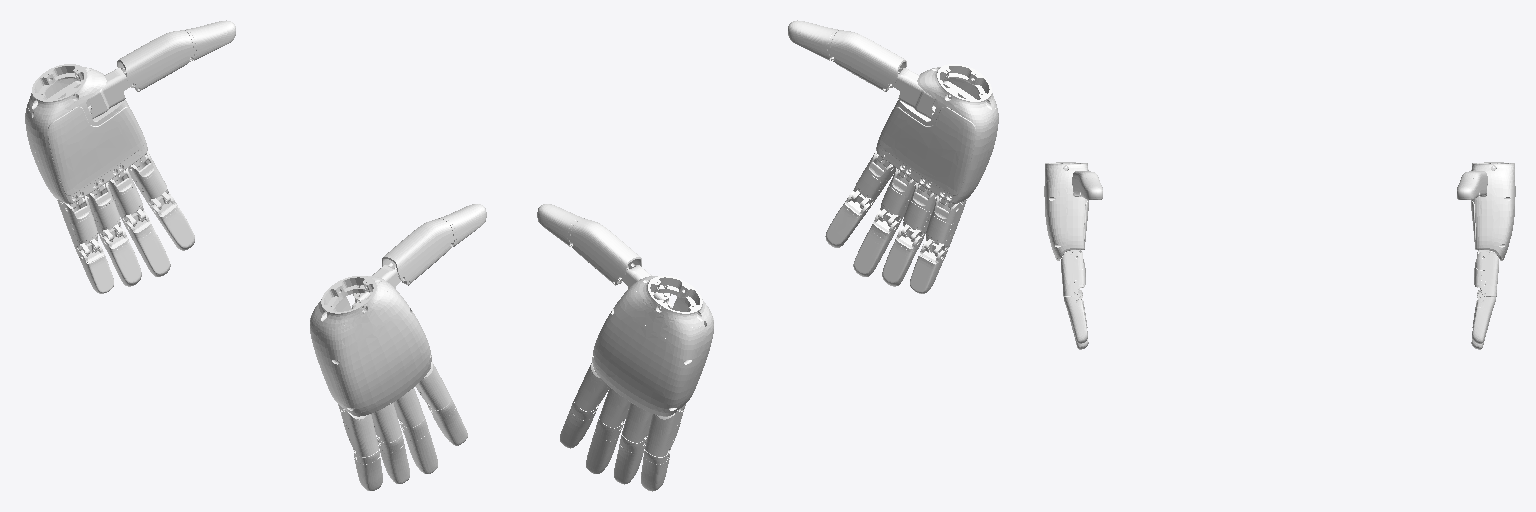
--- Render facts (derived) ---
The picture shows the robot from 3 angles, left to right: view 1: azimuth 30°, elevation 25°; view 2: azimuth 150°, elevation 25°; view 3: azimuth 270°, elevation 25°; orthographic projection.
Model GR2T2v2_fourier_hand_12dof with 71 links and 70 joints (53 revolute, 17 fixed), rooted at base_link, posed every joint at zero.
Visible links, largest first — view 1: R_hand_base_link, L_hand_base_link, L_thumb_proximal_pitch_link, R_thumb_proximal_pitch_link, L_middle_intermediate_link, L_ring_intermediate_link, L_index_intermediate_link, L_pinky_intermediate_link, L_thumb_distal_link, L_pinky_proximal_link, R_pinky_proximal_link, R_middle_intermediate_link (+11 smaller); view 2: L_hand_base_link, R_hand_base_link, R_thumb_proximal_pitch_link, L_thumb_proximal_pitch_link, R_middle_intermediate_link, R_ring_intermediate_link, R_index_intermediate_link, R_pinky_intermediate_link, R_thumb_distal_link, R_pinky_proximal_link, L_pinky_proximal_link, L_middle_intermediate_link (+11 smaller); view 3: L_hand_base_link, R_hand_base_link, R_index_proximal_link, L_index_proximal_link, R_index_intermediate_link, L_index_intermediate_link.
Link boxes in pixels (x1=…): R_hand_base_link: x1=310, y1=276, x2=431, y2=415; L_hand_base_link: x1=25, y1=64, x2=147, y2=208; L_thumb_proximal_pitch_link: x1=117, y1=30, x2=194, y2=91; R_thumb_proximal_pitch_link: x1=382, y1=219, x2=454, y2=285; L_middle_intermediate_link: x1=122, y1=209, x2=170, y2=276; L_ring_intermediate_link: x1=99, y1=224, x2=141, y2=286; L_index_intermediate_link: x1=148, y1=192, x2=194, y2=250; L_pinky_intermediate_link: x1=75, y1=239, x2=113, y2=293; L_thumb_distal_link: x1=185, y1=20, x2=235, y2=60; L_pinky_proximal_link: x1=57, y1=196, x2=97, y2=250; R_pinky_proximal_link: x1=338, y1=404, x2=378, y2=456; R_middle_intermediate_link: x1=400, y1=419, x2=437, y2=473; L_hand_base_link: x1=592, y1=276, x2=713, y2=415; R_hand_base_link: x1=876, y1=64, x2=998, y2=208; R_thumb_proximal_pitch_link: x1=829, y1=30, x2=906, y2=91; L_thumb_proximal_pitch_link: x1=569, y1=219, x2=641, y2=285; R_middle_intermediate_link: x1=853, y1=209, x2=901, y2=276; R_ring_intermediate_link: x1=882, y1=224, x2=924, y2=286; R_index_intermediate_link: x1=825, y1=190, x2=872, y2=247; R_pinky_intermediate_link: x1=910, y1=239, x2=948, y2=293; R_thumb_distal_link: x1=788, y1=20, x2=838, y2=60; R_pinky_proximal_link: x1=926, y1=196, x2=966, y2=250; L_pinky_proximal_link: x1=645, y1=404, x2=685, y2=456; L_middle_intermediate_link: x1=586, y1=419, x2=623, y2=473; L_hand_base_link: x1=1471, y1=162, x2=1515, y2=260; R_hand_base_link: x1=1044, y1=162, x2=1088, y2=260; R_index_proximal_link: x1=1061, y1=252, x2=1085, y2=296; L_index_proximal_link: x1=1474, y1=252, x2=1498, y2=296; R_index_intermediate_link: x1=1064, y1=293, x2=1087, y2=343; L_index_intermediate_link: x1=1472, y1=293, x2=1495, y2=343.
Size in the robot's own frame: 0.1704 by 0.5066 by 0.2191 metres.
26 mesh visuals loaded from 57 distinct referenced files (26 binary STL); not drawn: 13 (reference not matched to a file when rendering), 18 (file found but could not be loaded).

robot.urdf — GR2T2v2_fourier_hand_12dof:
<?xml version="1.0" encoding="utf-8"?>

<!-- 02282025-alpha-1 -->

<robot
  name="GR2T2v2_fourier_hand_12dof">
  <link
    name="base_link">
    <inertial>
      <origin
        xyz="-0.0030357 6.968E-05 -0.087284"
        rpy="0 0 0" />
      <mass
        value="6.6598" />
      <inertia
        ixx="0.048356"
        ixy="-1.314E-05"
        ixz="0.00041517"
        iyy="0.030781"
        iyz="-3.242E-05"
        izz="0.041191" />
    </inertial>
    <visual>
      <origin
        xyz="0 0 0"
        rpy="0 0 0" />
      <geometry>
        <mesh
          filename="../meshes/gr2t2v2/base_link.STL" />
      </geometry>
      <material
        name="">
        <color
          rgba="1 1 1 1" />
      </material>
    </visual>
    <collision>
      <origin
        xyz="0 0.125 0.01"
        rpy="0 0 0" />
      <geometry>
        <box size="0.18 0.06 0.02" />
      </geometry>
    </collision>
    <collision>
      <origin
        xyz="0 -0.125 0.01"
        rpy="0 0 0" />
      <geometry>
        <box size="0.18 0.06 0.02" />
      </geometry>
    </collision>
    <collision>
      <origin
        xyz="-0.03 0 -0.08"
        rpy="1.57 0 0" />
      <geometry>
        <cylinder radius="0.1" length="0.17" />
      </geometry>
    </collision>
  </link>
  <link
    name="waist_yaw_link">
    <inertial>
      <origin
        xyz="-2.017E-05 8.88E-05 0.024104"
        rpy="0 0 0" />
      <mass
        value="0.67252" />
      <inertia
        ixx="0.0010622"
        ixy="9E-08"
        ixz="-4.3E-07"
        iyy="0.0010624"
        iyz="3.7E-07"
        izz="0.00059099" />
    </inertial>
    <visual>
      <origin
        xyz="0 0 0"
        rpy="0 0 0" />
      <geometry>
        <mesh
          filename="../meshes/gr2t2v2/waist_yaw_link.STL" />
      </geometry>
      <material
        name="">
        <color
          rgba="1 1 1 1" />
      </material>
    </visual>
    <!-- <collision>
      <origin
        xyz="0 0 0"
        rpy="0 0 0" />
      <geometry>
        <mesh
          filename="../meshes/gr2t2v2/waist_yaw_link.STL" />
      </geometry>
    </collision> -->
  </link>
  <joint
    name="waist_yaw_joint"
    type="revolute">
    <origin
      xyz="0 0 -0.0159"
      rpy="0 0 0" />
    <parent
      link="base_link" />
    <child
      link="waist_yaw_link" />
    <axis
      xyz="0 0 1" />
    <limit
      lower="-2.618"
      upper="2.618"
      effort="74.45"
      velocity="7.7568" />
  </joint>
  <link
    name="torso_link">
    <inertial>
      <origin
        xyz="-0.0054214 0.0010624 -0.12326"
        rpy="0 0 0" />
      <mass
        value="14.058" />
      <inertia
        ixx="0.2545"
        ixy="0.0001127"
        ixz="-0.0023"
        iyy="0.21565"
        iyz="0.00034939"
        izz="0.1107" />
    </inertial>
    <visual>
      <origin
        xyz="0 0 0"
        rpy="0 0 0" />
      <geometry>
        <mesh
          filename="../meshes/gr2t2v2/torso_link.STL" />
      </geometry>
      <material
        name="">
        <color
          rgba="1 1 1 1" />
      </material>
    </visual>
    <collision>
      <origin
        xyz="0 0 -0.13"
        rpy="0 0 0" />
      <geometry>
        <cylinder radius="0.15" length="0.3" />
      </geometry>
    </collision>
  </link>
  <joint
    name="torso_joint"
    type="fixed">
    <origin
      xyz="0 0 0.39681"
      rpy="0 0 0" />
    <parent
      link="waist_yaw_link" />
    <child
      link="torso_link" />
    <axis
      xyz="0 0 0" />
  </joint>
  <link
    name="head_yaw_link">
    <inertial>
      <origin
        xyz="0 0.0099543 0.0065646"
        rpy="0 0 0" />
      <mass
        value="0.1402" />
      <inertia
        ixx="0.00012944"
        ixy="0"
        ixz="0"
        iyy="0.00010676"
        iyz="-3.991E-05"
        izz="4.821E-05" />
    </inertial>
    <visual>
      <origin
        xyz="0 0 0"
        rpy="0 0 0" />
      <geometry>
        <mesh
          filename="../meshes/gr2t2v2/head_yaw_link.STL" />
      </geometry>
      <material
        name="">
        <color
          rgba="1 1 1 1" />
      </material>
    </visual>
    <!-- <collision>
      <origin
        xyz="0 0 0"
        rpy="0 0 0" />
      <geometry>
        <mesh
          filename="../meshes/gr2t2v2/head_yaw_link.STL" />
      </geometry>
    </collision> -->
  </link>
  <joint
    name="head_yaw_joint"
    type="revolute">
    <origin
      xyz="0.001 0 0.11061"
      rpy="0 0 0" />
    <parent
      link="torso_link" />
    <child
      link="head_yaw_link" />
    <axis
      xyz="0 0 1" />
    <limit
      lower="-1.3963"
      upper="1.3963"
      effort="17.325"
      velocity="9.1627" />
  </joint>
  <link
    name="head_pitch_link">
    <inertial>
      <origin
        xyz="0.031582 0.0012059 0.072239"
        rpy="0 0 0" />
      <mass
        value="1.6096" />
      <inertia
        ixx="0.0077257"
        ixy="-1.346E-05"
        ixz="-0.00055988"
        iyy="0.010424"
        iyz="0.00010711"
        izz="0.0060799" />
    </inertial>
    <visual>
      <origin
        xyz="0 0 0"
        rpy="0 0 0" />
      <geometry>
        <mesh
          filename="../meshes/gr2t2v2/head_pitch_link.STL" />
      </geometry>
      <material
        name="">
        <color
          rgba="1 1 1 1" />
      </material>
    </visual>
    <collision>
      <origin
        xyz="0.02 0 0.07"
        rpy="0 0 0" />
      <geometry>
        <sphere radius="0.09" />
      </geometry>
    </collision>
  </link>
  <joint
    name="head_pitch_joint"
    type="revolute">
    <origin
      xyz="0 0 0.044185"
      rpy="0 0 0" />
    <parent
      link="head_yaw_link" />
    <child
      link="head_pitch_link" />
    <axis
      xyz="0 1 0" />
    <limit
      lower="-0.5236"
      upper="0.5236"
      effort="17.325"
      velocity="9.1627" />
  </joint>
  <link
    name="camera_link">
    <inertial>
      <origin
        xyz="0 0 0"
        rpy="0 0 0" />
      <mass
        value="0" />
      <inertia
        ixx="0"
        ixy="0"
        ixz="0"
        iyy="0"
        iyz="0"
        izz="0" />
    </inertial>

  </link>
  <joint
    name="camera_joint"
    type="fixed">
    <origin
      xyz="0.11296 0 0.09815"
      rpy="0 0 0" />
    <parent
      link="head_pitch_link" />
    <child
      link="camera_link" />
    <axis
      xyz="0 0 0" />
  </joint>
  <link
    name="left_upper_arm_pitch_link">
    <inertial>
      <origin
        xyz="0.0022312 0.040265 3.797E-05"
        rpy="0 0 0" />
      <mass
        value="1.3432" />
      <inertia
        ixx="0.0031811"
        ixy="-7.306E-05"
        ixz="-1.5E-07"
        iyy="0.0012561"
        iyz="9E-08"
        izz="0.0030442" />
    </inertial>
    <visual>
      <origin
        xyz="0 0 0"
        rpy="0 0 0" />
      <geometry>
        <mesh
          filename="../meshes/gr2t2v2/left_upper_arm_pitch_link.STL" />
      </geometry>
      <material
        name="">
        <color
          rgba="1 1 1 1" />
      </material>
    </visual>
    <!-- <collision>
      <origin
        xyz="0 0 0"
        rpy="0 0 0" />
      <geometry>
        <mesh
          filename="../meshes/gr2t2v2/left_upper_arm_pitch_link.STL" />
      </geometry>
    </collision> -->
  </link>
  <joint
    name="left_shoulder_pitch_joint"
    type="revolute">
    <origin
      xyz="0 0.15115 0"
      rpy="0 0 0" />
    <parent
      link="torso_link" />
    <child
      link="left_upper_arm_pitch_link" />
    <axis
      xyz="0 1 0" />
    <limit
      lower="-2.9671"
      upper="2.9671"
      effort="74.45"
      velocity="7.7568" />
  </joint>
  <link
    name="left_upper_arm_roll_link">
    <inertial>
      <origin
        xyz="0.0087432 0.0022878 -0.038787"
        rpy="0 0 0" />
      <mass
        value="0.96142" />
      <inertia
        ixx="0.0026111"
        ixy="1.105E-05"
        ixz="-0.00033468"
        iyy="0.0028017"
        iyz="2.91E-06"
        izz="0.00091191" />
    </inertial>
    <visual>
      <origin
        xyz="0 0 0"
        rpy="0 0 0" />
      <geometry>
        <mesh
          filename="../meshes/gr2t2v2/left_upper_arm_roll_link.STL" />
      </geometry>
      <material
        name="">
        <color
          rgba="1 1 1 1" />
      </material>
    </visual>
    <collision>
      <origin
        xyz="0 0 0"
        rpy="0 0 0" />
      <geometry>
        <sphere radius="0.045" />
      </geometry>
    </collision>
  </link>
  <joint
    name="left_shoulder_roll_joint"
    type="revolute">
    <origin
      xyz="0 0.078848 0"
      rpy="0 0 0" />
    <parent
      link="left_upper_arm_pitch_link" />
    <child
      link="left_upper_arm_roll_link" />
    <axis
      xyz="1 0 0" />
    <limit
      lower="-0.5236"
      upper="2.7925"
      effort="74.45"
      velocity="7.7568" />
  </joint>
  <link
    name="left_upper_arm_yaw_link">
    <inertial>
      <origin
        xyz="-0.00056161 0.0012137 -0.091108"
        rpy="0 0 0" />
      <mass
        value="1.3181" />
      <inertia
        ixx="0.0067903"
        ixy="3.2E-07"
        ixz="-5.12E-06"
        iyy="0.0068059"
        iyz="9.238E-05"
        izz="0.0010853" />
    </inertial>
    <visual>
      <origin
        xyz="0 0 0"
        rpy="0 0 0" />
      <geometry>
        <mesh
          filename="../meshes/gr2t2v2/left_upper_arm_yaw_link.STL" />
      </geometry>
      <material
        name="">
        <color
          rgba="1 1 1 1" />
      </material>
    </visual>
    <collision>
      <origin
        xyz="0 0 -0.05"
        rpy="0 0 0" />
      <geometry>
        <cylinder radius="0.04" length="0.10" />
      </geometry>
    </collision>
  </link>
  <joint
    name="left_shoulder_yaw_joint"
    type="revolute">
    <origin
      xyz="0 0 -0.09438"
      rpy="0 0 0" />
    <parent
      link="left_upper_arm_roll_link" />
    <child
      link="left_upper_arm_yaw_link" />
    <axis
      xyz="0 0 1" />
    <limit
      lower="-1.8326"
      upper="1.8326"
      effort="42.75"
      velocity="6.283" />
  </joint>
  <link
    name="left_lower_arm_pitch_link">
    <inertial>
      <origin
        xyz="-0.0014862 0.006973 -0.021097"
        rpy="0 0 0" />
      <mass
        value="0.45807" />
      <inertia
        ixx="0.00068974"
        ixy="-3.65E-06"
        ixz="-2.99E-06"
        iyy="0.00057464"
        iyz="-6.575E-05"
        izz="0.00038897" />
    </inertial>
    <visual>
      <origin
        xyz="0 0 0"
        rpy="0 0 0" />
      <geometry>
        <mesh
          filename="../meshes/gr2t2v2/left_lower_arm_pitch_link.STL" />
      </geometry>
      <material
        name="">
        <color
          rgba="1 1 1 1" />
      </material>
    </visual>
    <!-- <collision>
      <origin
        xyz="0 0 0"
        rpy="0 0 0" />
      <geometry>
        <mesh
          filename="../meshes/gr2t2v2/left_lower_arm_pitch_link.STL" />
      </geometry>
    </collision> -->
  </link>
  <joint
    name="left_elbow_pitch_joint"
    type="revolute">
    <origin
      xyz="0 0 -0.16111"
      rpy="0 -0.3926 0" />
    <parent
      link="left_upper_arm_yaw_link" />
    <child
      link="left_lower_arm_pitch_link" />
    <axis
      xyz="0 1 0" />
    <limit
      lower="-1.5272"
      upper="0.47997"
      effort="42.75"
      velocity="6.283" />
  </joint>
  <link
    name="left_hand_yaw_link">
    <inertial>
      <origin
        xyz="0.00027991 0.0038031 -0.062955"
        rpy="0 0 0" />
      <mass
        value="1.0855" />
      <inertia
        ixx="0.0023598"
        ixy="-9.31E-06"
        ixz="2.063E-05"
        iyy="0.002234"
        iyz="0.00013994"
        izz="0.00088838" />
    </inertial>
    <visual>
      <origin
        xyz="0 0 0"
        rpy="0 0 0" />
      <geometry>
        <mesh
          filename="../meshes/gr2t2v2/left_hand_yaw_link.STL" />
      </geometry>
      <material
        name="">
        <color
          rgba="1 1 1 1" />
      </material>
    </visual>
    <collision>
      <origin
        xyz="0 0 -0.05"
        rpy="0 0 0" />
      <geometry>
        <cylinder radius="0.045" length="0.115" />
      </geometry>
    </collision>
  </link>
  <joint
    name="left_wrist_yaw_joint"
    type="revolute">
    <origin
      xyz="0 0 -0.058525"
      rpy="0 0 0" />
    <parent
      link="left_lower_arm_pitch_link" />
    <child
      link="left_hand_yaw_link" />
    <axis
      xyz="0 0 1" />
    <limit
      lower="-1.8326"
      upper="1.8326"
      effort="17.325"
      velocity="9.1627" />
  </joint>
  <link
    name="left_hand_pitch_link">
    <inertial>
      <origin
        xyz="0.0038604 2.7474E-05 2.9411E-06"
        rpy="0 0 0" />
      <mass
        value="0.45716" />
      <inertia
        ixx="0.00021943"
        ixy="-3.7E-07"
        ixz="-8.6975E-08"
        iyy="0.00022813"
        iyz="-2.1E-07"
        izz="0.00023483" />
    </inertial>
    <visual>
      <origin
        xyz="0 0 0"
        rpy="0 0 0" />
      <geometry>
        <mesh
          filename="../meshes/gr2t2v2/left_hand_pitch_link.STL" />
      </geometry>
      <material
        name="">
        <color
          rgba="1 1 1 1" />
      </material>
    </visual>
    <!-- <collision>
      <origin
        xyz="0 0 0"
        rpy="0 0 0" />
      <geometry>
        <mesh
          filename="../meshes/gr2t2v2/left_hand_pitch_link.STL" />
      </geometry>
    </collision> -->
  </link>
  <joint
    name="left_wrist_pitch_joint"
    type="revolute">
    <origin
      xyz="0 0 -0.16102"
      rpy="0 0 0" />
    <parent
      link="left_hand_yaw_link" />
    <child
      link="left_hand_pitch_link" />
    <axis
      xyz="0 1 0" />
    <limit
      lower="-0.61087"
      upper="0.61087"
      effort="17.325"
      velocity="9.1627" />
  </joint>
  <link
    name="left_hand_roll_link">
    <inertial>
      <origin
        xyz="0.0087325 -2.8386E-05 -0.015719"
        rpy="0 0 0" />
      <mass
        value="0.20259" />
      <inertia
        ixx="0.0001134"
        ixy="-1.8583E-08"
        ixz="-2.4468E-05"
        iyy="0.00019338"
        iyz="-6.0314E-08"
        izz="0.0001471" />
    </inertial>
    <visual>
      <origin
        xyz="0 0 0"
        rpy="0 0 0" />
      <geometry>
        <mesh
          filename="../meshes/gr2t2v2/left_hand_roll_link.STL" />
      </geometry>
      <material
        name="">
        <color
          rgba="1 1 1 1" />
      </material>
    </visual>
    <!-- <collision>
      <origin
        xyz="0 0 0"
        rpy="0 0 0" />
      <geometry>
        <mesh
          filename="../meshes/gr2t2v2/left_hand_roll_link.STL" />
      </geometry>
    </collision> -->
  </link>
  <joint
    name="left_wrist_roll_joint"
    type="revolute">
    <origin
      xyz="0 0 0"
      rpy="0 0 0" />
    <parent
      link="left_hand_pitch_link" />
    <child
      link="left_hand_roll_link" />
    <axis
      xyz="1 0 0" />
    <limit
      lower="-0.95993"
      upper="0.95993"
      effort="17.325"
      velocity="9.1627" />
  </joint>
  <link
    name="left_end_effector_link">
  </link>
  <joint
    name="left_end_effector_joint"
    type="fixed">
    <origin
      xyz="0 0 -0.045"
      rpy="0 0 0" />
    <parent
      link="left_hand_roll_link" />
    <child
      link="left_end_effector_link" />
    <axis
      xyz="0 0 0" />
  </joint>

  <link
    name="L_hand_base_link">
    <inertial>
      <origin
        xyz="-0.0027 -0.009658 -0.044243"
        rpy="0 0 0" />
      <mass
        value="0.281" />
      <inertia
        ixx="0.000344"
        ixy="-3.26E-06"
        ixz="8.99E-06"
        iyy="0.000474"
        iyz="-1.063E-05"
        izz="0.000217" />
    </inertial>
    <visual>
      <origin
        xyz="0 0 0"
        rpy="0 0 0" />
      <geometry>
        <mesh
          filename="../meshes/fourier_hand_12dof/L_hand_base_link.STL" />
      </geometry>
      <material
        name="">
        <color
          rgba="1 1 1 1" />
      </material>
    </visual>
    <collision>
      <origin
        xyz="0 0 0"
        rpy="0 0 0" />
      <geometry>
        <mesh
          filename="../meshes/fourier_hand_12dof/L_hand_base_link.STL" />
      </geometry>
    </collision>
  </link>
  <joint
    name="L_hand_base_joint"
    type="fixed">
    <origin
      xyz="0 0 0"
      rpy="0 0 0" />
    <parent
      link="left_end_effector_link" />
    <child
      link="L_hand_base_link" />
    <axis
      xyz="0 0 0" />
  </joint>
  <link
    name="L_thumb_proximal_yaw_link">
    <inertial>
      <origin
        xyz="0.010856 -0.001425 0.000443"
        rpy="0 0 0" />
      <mass
        value="0.04" />
      <inertia
        ixx="4.48E-06"
        ixy="7E-07"
        ixz="-7.4E-07"
        iyy="7.55E-06"
        iyz="6E-8"
        izz="6.88E-06" />
    </inertial>
    <visual>
      <origin
        xyz="0 0 0"
        rpy="0 0 0" />
      <geometry>
        <mesh
          filename="../meshes/fourier_hand_12dof/L_thumb_proximal_yaw_link.STL" />
      </geometry>
      <material
        name="">
        <color
          rgba="1 1 1 1" />
      </material>
    </visual>
    <collision>
      <origin
        xyz="0 0 0"
        rpy="0 0 0" />
      <geometry>
        <mesh
          filename="../meshes/fourier_hand_12dof/L_thumb_proximal_yaw_link.STL" />
      </geometry>
    </collision>
  </link>
  <joint
    name="L_thumb_proximal_yaw_joint"
    type="revolute">
    <origin
      xyz="0.014 -0.012 -0.023196"
      rpy="0 0 0" />
    <parent
      link="L_hand_base_link" />
    <child
      link="L_thumb_proximal_yaw_link" />
    <axis
      xyz="0 0 1" />
    <limit
      lower="-1.4661"
      upper="0"
      effort="0"
      velocity="0" />
  </joint>
  <link
    name="L_thumb_proximal_pitch_link">
    <inertial>
      <origin
        xyz="0.026449 -0.000321 3.22E-06"
        rpy="0 0 0" />
      <mass
        value="0.0415" />
      <inertia
        ixx="5.76E-06"
        ixy="3.7e-7"
        ixz="0"
        iyy="1.33E-05"
        iyz="0"
        izz="1.39E-05" />
    </inertial>
    <visual>
      <origin
        xyz="0 0 0"
        rpy="0 0 0" />
      <geometry>
        <mesh
          filename="../meshes/fourier_hand_12dof/L_thumb_proximal_pitch_link.STL" />
      </geometry>
      <material
        name="">
        <color
          rgba="1 1 1 1" />
      </material>
    </visual>
    <collision>
      <origin
        xyz="0 0 0"
        rpy="0 0 0" />
      <geometry>
        <mesh
          filename="../meshes/fourier_hand_12dof/L_thumb_proximal_pitch_link.STL" />
      </geometry>
    </collision>
  </link>
  <joint
    name="L_thumb_proximal_pitch_joint"
    type="revolute">
    <origin
      xyz="0.034322 -0.0054361 0.001"
      rpy="-1.5708 0 -0.15708" />
    <parent
      link="L_thumb_proximal_yaw_link" />
    <child
      link="L_thumb_proximal_pitch_link" />
    <axis
      xyz="0 0 1" />
    <limit
      lower="0"
      upper="1.274"
      effort="0"
      velocity="0" />
  </joint>
  <link
    name="L_thumb_distal_link">
    <inertial>
      <origin
        xyz="0.0186 -0.00514 1.569E-05"
        rpy="0 0 0" />
      <mass
        value="0.0198" />
      <inertia
        ixx="1.15E-06"
        ixy="-6E-8"
        ixz="0"
        iyy="3.43E-06"
        iyz="0"
        izz="3.24E-06" />
    </inertial>
    <visual>
      <origin
        xyz="0 0 0"
        rpy="0 0 0" />
      <geometry>
        <mesh
          filename="../meshes/fourier_hand_12dof/L_thumb_distal_link.STL" />
      </geometry>
      <material
        name="">
        <color
          rgba="1 1 1 1" />
      </material>
    </visual>
    <collision>
      <origin
        xyz="0 0 0"
        rpy="0 0 0" />
      <geometry>
        <mesh
          filename="../meshes/fourier_hand_12dof/L_thumb_distal_link.STL" />
      </geometry>
    </collision>
  </link>
  <joint
    name="L_thumb_distal_joint"
    type="revolute">
    <origin
      xyz="0.05175 0.0050976 0"
      rpy="0 0 0.071635" />
    <parent
      link="L_thumb_proximal_pitch_link" />
    <child
      link="L_thumb_distal_link" />
    <axis
      xyz="0 0 1" />
    <limit
      lower="0"
      upper="1.3614"
      effort="0"
      velocity="0" />
  </joint>

  <link name="L_thumb_tip_link">
    <visual>
      <origin
        xyz="0 0 0"
        rpy="0 0 0" />
      <geometry>
        <sphere radius="0.005" />
      </geometry>
      <material name="yellow">
        <color rgba="0.9 1 0 1" />
      </material>
    </visual>
  </link>
  <joint name="L_thumb_tip_joint" type="fixed">
    <parent link="L_thumb_distal_link" />
    <child link="L_thumb_tip_link" />
    <origin rpy="0 0 0" xyz="0.035 -0.001 0" />
  </joint>


  <link
    name="L_index_metacarpal_link">
    <inertial>
      <origin
        xyz="-0.00912 0.00394 0"
        rpy="0 0 0" />
      <mass
        value="0.0321" />
      <inertia
        ixx="1.09E-06"
        ixy="1.85E-06"
        ixz="0"
        iyy="7.7E-06"
        iyz="0"
        izz="7.94E-06" />
    </inertial>
    <visual>
      <origin
        xyz="0 0 0"
        rpy="0 0 0" />
      <geometry>
        <mesh
          filename="../meshes/fourier_hand_12dof/L_index_metacarpal_link.STL" />
      </geometry>
      <material
        name="">
        <color
          rgba="1 1 1 1" />
      </material>
    </visual>
    <collision>
      <origin
        xyz="0 0 0"
        rpy="0 0 0" />
      <geometry>
        <mesh
          filename="../meshes/fourier_hand_12dof/L_index_metacarpal_link.STL" />
      </geometry>
    </collision>
  </link>
  <joint
    name="L_index_metacarpal_joint"
    type="revolute">
    <origin
      xyz="0.0305 -0.0118 -0.088496"
      rpy="3.1416 1.4946 0" />
    <parent
      link="L_hand_base_link" />
    <child
      link="L_index_metacarpal_link" />
    <axis
      xyz="0 1 0" />
    <limit
      lower="-0.0524"
      upper="0.2618"
      effort="0"
      velocity="0" />
  </joint>
  <link
    name="L_index_proximal_link">
    <inertial>
      <origin
        xyz="0.01736 0.0045 0"
        rpy="0 0 0" />
      <mass
        value="0.0358" />
      <inertia
        ixx="3.91E-06"
        ixy="-2.7E-7"
        ixz="0"
        iyy="7.43E-06"
        iyz="0"
        izz="7.77E-06" />
    </inertial>
    <visual>
      <origin
        xyz="0 0 0"
        rpy="0 0 0" />
      <geometry>
        <mesh
          filename="../meshes/fourier_hand_12dof/L_index_proximal_link.STL" />
      </geometry>
      <material
        name="">
        <color
          rgba="1 1 1 1" />
      </material>
    </visual>
    <collision>
      <origin
        xyz="0 0 0"
        rpy="0 0 0" />
      <geometry>
        <mesh
          filename="../meshes/fourier_hand_12dof/L_index_proximal_link.STL" />
      </geometry>
    </collision>
  </link>
  <joint
    name="L_index_proximal_joint"
    type="revolute">
    <origin
      xyz="0.012 -0.0005 0"
      rpy="3.1416 0 0" />
    <parent
      link="L_index_metacarpal_link" />
    <child
      link="L_index_proximal_link" />
    <axis
      xyz="0 0 1" />
    <limit
      lower="-1.5185"
      upper="0"
      effort="0"
      velocity="0" />
  </joint>
  <link
    name="L_index_intermediate_link">
    <inertial>
      <origin
        xyz="0.02243 0.002908 1.624e-5"
        rpy="0 0 0" />
      <mass
        value="0.0199" />
      <inertia
        ixx="8.4E-7"
        ixy="4E-8"
        ixz="1E-8"
        iyy="4.82E-6"
        iyz="0"
        izz="4.72E-6" />
    </inertial>
    <visual>
      <origin
        xyz="0 0 0"
        rpy="0 0 0" />
      <geometry>
        <mesh
          filename="../meshes/fourier_hand_12dof/L_index_intermediate_link.STL" />
      </geometry>
      <material
        name="">
        <color
          rgba="1 1 1 1" />
      </material>
    </visual>
    <collision>
      <origin
        xyz="0 0 0"
        rpy="0 0 0" />
      <geometry>
        <mesh
          filename="../meshes/fourier_hand_12dof/L_index_intermediate_link.STL" />
      </geometry>
    </collision>
  </link>
  <joint
    name="L_index_intermediate_joint"
    type="revolute">
    <origin
      xyz="0.038948 0.0020202 0"
      rpy="0 0 -0.19585" />
    <parent
      link="L_index_proximal_link" />
    <child
      link="L_index_intermediate_link" />
    <axis
      xyz="0 0 1" />
    <limit
      lower="-1.5708"
      upper="0"
      effort="0"
      velocity="0" />
  </joint>

  <link name="L_index_tip_link">
    <visual>
      <origin
        xyz="0 0 0"
        rpy="0 0 0" />
      <geometry>
        <sphere radius="0.005" />
      </geometry>
      <material name="yellow">
        <color rgba="0.9 1 0 1" />
      </material>
    </visual>
  </link>
  <joint name="L_index_tip_joint" type="fixed">
    <parent link="L_index_intermediate_link" />
    <child link="L_index_tip_link" />
    <origin rpy="0 0 0" xyz="0.047 0.001 0" />
  </joint>

  <link
    name="L_middle_proximal_link">
    <inertial>
      <origin
        xyz="0.017361 0.0045 0"
        rpy="0 0 0" />
      <mass
        value="0.0358" />
      <inertia
        ixx="3.91E-06"
        ixy="-2.7E-7"
        ixz="0"
        iyy="7.43E-06"
        iyz="0"
        izz="7.77E-06" />
    </inertial>
    <visual>
      <origin
        xyz="0 0 0"
        rpy="0 0 0" />
      <geometry>
        <mesh
          filename="../meshes/fourier_hand_12dof/L_middle_proximal_link.STL" />
      </geometry>
      <material
        name="">
        <color
          rgba="1 1 1 1" />
      </material>
    </visual>
    <collision>
      <origin
        xyz="0 0 0"
        rpy="0 0 0" />
      <geometry>
        <mesh
          filename="../meshes/fourier_hand_12dof/L_middle_proximal_link.STL" />
      </geometry>
    </collision>
  </link>
  <joint
    name="L_middle_proximal_joint"
    type="revolute">
    <origin
      xyz="0.0095 -0.0113 -0.10005"
      rpy="0 1.5708 0" />
    <parent
      link="L_hand_base_link" />
    <child
      link="L_middle_proximal_link" />
    <axis
      xyz="0 0 1" />
    <limit
      lower="-1.5185"
      upper="0"
      effort="0"
      velocity="0" />
  </joint>
  <link
    name="L_middle_intermediate_link">
    <inertial>
      <origin
        xyz="0.0247 0.00323 1.39E-5"
        rpy="0 0 0" />
      <mass
        value="0.0234" />
      <inertia
        ixx="1.01E-6"
        ixy="-4E-8"
        ixz="1E-8"
        iyy="6.94E-6"
        iyz="0"
        izz="6.82E-6" />
    </inertial>
    <visual>
      <origin
        xyz="0 0 0"
        rpy="0 0 0" />
      <geometry>
        <mesh
          filename="../meshes/fourier_hand_12dof/L_middle_intermediate_link.STL" />
      </geometry>
      <material
        name="">
        <color
          rgba="1 1 1 1" />
      </material>
    </visual>
    <collision>
      <origin
        xyz="0 0 0"
        rpy="0 0 0" />
      <geometry>
        <mesh
          filename="../meshes/fourier_hand_12dof/L_middle_intermediate_link.STL" />
      </geometry>
    </collision>
  </link>
  <joint
    name="L_middle_intermediate_joint"
    type="revolute">
    <origin
      xyz="0.038948 0.0020202 0"
      rpy="0 0 -0.19218" />
    <parent
      link="L_middle_proximal_link" />
    <child
      link="L_middle_intermediate_link" />
    <axis
      xyz="0 0 1" />
    <limit
      lower="-1.5708"
      upper="0"
      effort="0"
      velocity="0" />
  </joint>

  <link name="L_middle_tip_link">
    <visual>
      <origin
        xyz="0 0 0"
        rpy="0 0 0" />
      <geometry>
        <sphere radius="0.005" />
      </geometry>
      <material name="yellow">
        <color rgba="0.9 1 0 1" />
      </material>
    </visual>
  </link>
  <joint name="L_middle_tip_joint" type="fixed">
    <parent link="L_middle_intermediate_link" />
    <child link="L_middle_tip_link" />
    <origin rpy="0 0 0" xyz="0.055 0.0012 0" />
  </joint>


  <link
    name="L_ring_proximal_link">
    <inertial>
      <origin
        xyz="0.017361 0.0045 0"
        rpy="0 0 0" />
      <mass
        value="0.035778" />
      <inertia
        ixx="3.91E-06"
        ixy="-2.7E-7"
        ixz="0"
        iyy="7.4E-06"
        iyz="0"
        izz="7.7E-06" />
    </inertial>
    <visual>
      <origin
        xyz="0 0 0"
        rpy="0 0 0" />
      <geometry>
        <mesh
          filename="../meshes/fourier_hand_12dof/L_ring_proximal_link.STL" />
      </geometry>
      <material
        name="">
        <color
          rgba="1 1 1 1" />
      </material>
    </visual>
    <collision>
      <origin
        xyz="0 0 0"
        rpy="0 0 0" />
      <geometry>
        <mesh
          filename="../meshes/fourier_hand_12dof/L_ring_proximal_link.STL" />
      </geometry>
    </collision>
  </link>
  <joint
    name="L_ring_proximal_joint"
    type="revolute">
    <origin
      xyz="-0.010987 -0.0113 -0.10003"
      rpy="-3.1416 1.5184 -3.1416" />
    <parent
      link="L_hand_base_link" />
    <child
      link="L_ring_proximal_link" />
    <axis
      xyz="0 0 1" />
    <limit
      lower="-1.5185"
      upper="0"
      effort="0"
      velocity="0" />
  </joint>
  <link
    name="L_ring_intermediate_link">
    <inertial>
      <origin
        xyz="0.02243 0.002908 1.624E-5"
        rpy="0 0 0" />
      <mass
        value="0.0199" />
      <inertia
        ixx="8.4E-7"
        ixy="4E-8"
        ixz="1E-8"
        iyy="4.82E-6"
        iyz="0"
        izz="4.72E-6" />
    </inertial>
    <visual>
      <origin
        xyz="0 0 0"
        rpy="0 0 0" />
      <geometry>
        <mesh
          filename="../meshes/fourier_hand_12dof/L_ring_intermediate_link.STL" />
      </geometry>
      <material
        name="">
        <color
          rgba="1 1 1 1" />
      </material>
    </visual>
    <collision>
      <origin
        xyz="0 0 0"
        rpy="0 0 0" />
      <geometry>
        <mesh
          filename="../meshes/fourier_hand_12dof/L_ring_intermediate_link.STL" />
      </geometry>
    </collision>
  </link>
  <joint
    name="L_ring_intermediate_joint"
    type="revolute">
    <origin
      xyz="0.038948 0.0020202 0"
      rpy="0 0 -0.19585" />
    <parent
      link="L_ring_proximal_link" />
    <child
      link="L_ring_intermediate_link" />
    <axis
      xyz="0 0 1" />
    <limit
      lower="-1.5708"
      upper="0"
      effort="0"
      velocity="0" />
  </joint>

  <link name="L_ring_tip_link">
    <visual>
      <origin
        xyz="0 0 0"
        rpy="0 0 0" />
      <geometry>
        <sphere radius="0.005" />
      </geometry>
      <material name="green">
        <color rgba="0.9 1 0 1" />
      </material>
    </visual>
  </link>
  <joint name="L_ring_tip_joint" type="fixed">
    <parent link="L_ring_intermediate_link" />
    <child link="L_ring_tip_link" />
    <origin rpy="0 0 0" xyz="0.045 0.001 0" />
  </joint>


  <link
    name="L_pinky_proximal_link">
    <inertial>
      <origin
        xyz="0.017361 0.0045 0"
        rpy="0 0 0" />
      <mass
        value="0.0358" />
      <inertia
        ixx="3.91E-06"
        ixy="-2.7E-7"
        ixz="0"
        iyy="7.4E-06"
        iyz="0"
        izz="7.77E-06" />
    </inertial>
    <visual>
      <origin
        xyz="0 0 0"
        rpy="0 0 0" />
      <geometry>
        <mesh
          filename="../meshes/fourier_hand_12dof/L_pinky_proximal_link.STL" />
      </geometry>
      <material
        name="">
        <color
          rgba="1 1 1 1" />
      </material>
    </visual>
    <collision>
      <origin
        xyz="0 0 0"
        rpy="0 0 0" />
      <geometry>
        <mesh
          filename="../meshes/fourier_hand_12dof/L_pinky_proximal_link.STL" />
      </geometry>
    </collision>
  </link>
  <joint
    name="L_pinky_proximal_joint"
    type="revolute">
    <origin
      xyz="-0.031472 -0.0113 -0.099245"
      rpy="-3.1416 1.4661 -3.1416" />
    <parent
      link="L_hand_base_link" />
    <child
      link="L_pinky_proximal_link" />
    <axis
      xyz="0 0 1" />
    <limit
      lower="-1.5185"
      upper="0"
      effort="0"
      velocity="0" />
  </joint>
  <link
    name="L_pinky_intermediate_link">
    <inertial>
      <origin
        xyz="0.01875 0.00296 5.23E-6"
        rpy="0 0 0" />
      <mass
        value="0.00812" />
      <inertia
        ixx="6.7E-7"
        ixy="5E-8"
        ixz="1E-8"
        iyy="2.69E-06"
        iyz="0"
        izz="2.6E-06" />
    </inertial>
    <visual>
      <origin
        xyz="0 0 0"
        rpy="0 0 0" />
      <geometry>
        <mesh
          filename="../meshes/fourier_hand_12dof/L_pinky_intermediate_link.STL" />
      </geometry>
      <material
        name="">
        <color
          rgba="1 1 1 1" />
      </material>
    </visual>
    <collision>
      <origin
        xyz="0 0 0"
        rpy="0 0 0" />
      <geometry>
        <mesh
          filename="../meshes/fourier_hand_12dof/L_pinky_intermediate_link.STL" />
      </geometry>
    </collision>
  </link>
  <joint
    name="L_pinky_intermediate_joint"
    type="revolute">
    <origin
      xyz="0.038948 0.0020202 0"
      rpy="0 -0.0013299 -0.20067" />
    <parent
      link="L_pinky_proximal_link" />
    <child
      link="L_pinky_intermediate_link" />
    <axis
      xyz="0.0013299 0 1" />
    <limit
      lower="-1.5708"
      upper="0"
      effort="0"
      velocity="0" />
  </joint>

  <link name="L_pinky_tip_link">
    <visual>
      <origin
        xyz="0 0 0"
        rpy="0 0 0" />
      <geometry>
        <sphere radius="0.005" />
      </geometry>
      <material name="yellow">
        <color rgba="0.9 1 0 1" />
      </material>
    </visual>
  </link>
  <joint name="L_pinky_tip_joint" type="fixed">
    <parent link="L_pinky_intermediate_link" />
    <child link="L_pinky_tip_link" />
    <origin rpy="0 0 0" xyz="0.038 0.001 0" />
  </joint>

  <link
    name="right_upper_arm_pitch_link">
    <inertial>
      <origin
        xyz="0.0022312 -0.040265 3.797E-05"
        rpy="0 0 0" />
      <mass
        value="1.3432" />
      <inertia
        ixx="0.0031811"
        ixy="7.306E-05"
        ixz="-1.5E-07"
        iyy="0.0012561"
        iyz="-9E-08"
        izz="0.0030442" />
    </inertial>
    <visual>
      <origin
        xyz="0 0 0"
        rpy="0 0 0" />
      <geometry>
        <mesh
          filename="../meshes/gr2t2v2/right_upper_arm_pitch_link.STL" />
      </geometry>
      <material
        name="">
        <color
          rgba="1 1 1 1" />
      </material>
    </visual>
    <!-- <collision>
      <origin
        xyz="0 0 0"
        rpy="0 0 0" />
      <geometry>
        <mesh
          filename="../meshes/gr2t2v2/right_upper_arm_pitch_link.STL" />
      </geometry>
    </collision> -->
  </link>
  <joint
    name="right_shoulder_pitch_joint"
    type="revolute">
    <origin
      xyz="0 -0.1585 0"
      rpy="0 0 0" />
    <parent
      link="torso_link" />
    <child
      link="right_upper_arm_pitch_link" />
    <axis
      xyz="0 1 0" />
    <limit
      lower="-2.9671"
      upper="2.9671"
      effort="74.45"
      velocity="7.7568" />
  </joint>
  <link
    name="right_upper_arm_roll_link">
    <inertial>
      <origin
        xyz="0.0087432 -0.0022878 -0.038787"
        rpy="0 0 0" />
      <mass
        value="0.96142" />
      <inertia
        ixx="0.0026111"
        ixy="-1.105E-05"
        ixz="-0.00033468"
        iyy="0.0028017"
        iyz="-2.91E-06"
        izz="0.00091191" />
    </inertial>
    <visual>
      <origin
        xyz="0 0 0"
        rpy="0 0 0" />
      <geometry>
        <mesh
          filename="../meshes/gr2t2v2/right_upper_arm_roll_link.STL" />
      </geometry>
      <material
        name="">
        <color
          rgba="1 1 1 1" />
      </material>
    </visual>
    <collision>
      <origin
        xyz="0 0 0"
        rpy="0 0 0" />
      <geometry>
        <sphere radius="0.045"  />
      </geometry>
    </collision>
  </link>
  <joint
    name="right_shoulder_roll_joint"
    type="revolute">
    <origin
      xyz="0 -0.071498 0"
      rpy="0 0 0" />
    <parent
      link="right_upper_arm_pitch_link" />
    <child
      link="right_upper_arm_roll_link" />
    <axis
      xyz="1 0 0" />
    <limit
      lower="-2.7925"
      upper="0.5236"
      effort="74.45"
      velocity="7.7568" />
  </joint>
  <link
    name="right_upper_arm_yaw_link">
    <inertial>
      <origin
        xyz="-0.00056161 -0.0012137 -0.091108"
        rpy="0 0 0" />
      <mass
        value="1.3181" />
      <inertia
        ixx="0.0067903"
        ixy="-3.2E-07"
        ixz="-5.12E-06"
        iyy="0.0068059"
        iyz="-9.238E-05"
        izz="0.0010853" />
    </inertial>
    <visual>
      <origin
        xyz="0 0 0"
        rpy="0 0 0" />
      <geometry>
        <mesh
          filename="../meshes/gr2t2v2/right_upper_arm_yaw_link.STL" />
      </geometry>
      <material
        name="">
        <color
          rgba="1 1 1 1" />
      </material>
    </visual>
    <collision>
      <origin
        xyz="0 0 -0.05"
        rpy="0 0 0" />
      <geometry>
        <cylinder radius="0.040" length="0.1" />
      </geometry>
    </collision>
  </link>
  <joint
    name="right_shoulder_yaw_joint"
    type="revolute">
    <origin
      xyz="0 0 -0.09438"
      rpy="0 0 0" />
    <parent
      link="right_upper_arm_roll_link" />
    <child
      link="right_upper_arm_yaw_link" />
    <axis
      xyz="0 0 1" />
    <limit
      lower="-1.8326"
      upper="1.8326"
      effort="42.75"
      velocity="6.283" />
  </joint>
  <link
    name="right_lower_arm_pitch_link">
    <inertial>
      <origin
        xyz="-0.0014862 -0.006973 -0.021097"
        rpy="0 0 0" />
      <mass
        value="0.45807" />
      <inertia
        ixx="0.00068974"
        ixy="3.65E-06"
        ixz="-2.99E-06"
        iyy="0.00057464"
        iyz="6.575E-05"
        izz="0.00038897" />
    </inertial>
    <visual>
      <origin
        xyz="0 0 0"
        rpy="0 0 0" />
      <geometry>
        <mesh
          filename="../meshes/gr2t2v2/right_lower_arm_pitch_link.STL" />
      </geometry>
      <material
        name="">
        <color
          rgba="1 1 1 1" />
      </material>
    </visual>
    <!-- <collision>
      <origin
        xyz="0 0 0"
        rpy="0 0 0" />
      <geometry>
        <mesh
          filename="../meshes/gr2t2v2/right_lower_arm_pitch_link.STL" />
      </geometry>
    </collision> -->
  </link>
  <joint
    name="right_elbow_pitch_joint"
    type="revolute">
    <origin
      xyz="0 0 -0.16111"
      rpy="0 -0.39265 0" />
    <parent
      link="right_upper_arm_yaw_link" />
    <child
      link="right_lower_arm_pitch_link" />
    <axis
      xyz="0 1 0" />
    <limit
      lower="-1.5272"
      upper="0.47997"
      effort="42.75"
      velocity="6.283" />
  </joint>
  <link
    name="right_hand_yaw_link">
    <inertial>
      <origin
        xyz="0.00027991 -0.0038031 -0.062955"
        rpy="0 0 0" />
      <mass
        value="1.0855" />
      <inertia
        ixx="0.0023598"
        ixy="9.31E-06"
        ixz="2.063E-05"
        iyy="0.002234"
        iyz="-0.00013994"
        izz="0.00088838" />
    </inertial>
    <visual>
      <origin
        xyz="0 0 0"
        rpy="0 0 0" />
      <geometry>
        <mesh
          filename="../meshes/gr2t2v2/right_hand_yaw_link.STL" />
      </geometry>
      <material
        name="">
        <color
          rgba="1 1 1 1" />
      </material>
    </visual>
    <collision>
      <origin
        xyz="0 0 -0.05"
        rpy="0 0 0" />
      <geometry>
        <cylinder radius="0.045" length="0.1155" />
      </geometry>
    </collision>
  </link>
  <joint
    name="right_wrist_yaw_joint"
    type="revolute">
    <origin
      xyz="0 0 -0.058525"
      rpy="0 0 0" />
    <parent
      link="right_lower_arm_pitch_link" />
    <child
      link="right_hand_yaw_link" />
    <axis
      xyz="0 0 1" />
    <limit
      lower="-1.8326"
      upper="1.8326"
      effort="17.325"
      velocity="9.1627" />
  </joint>
  <link
    name="right_hand_pitch_link">
    <inertial>
      <origin
        xyz="0.0038604 -2.7474E-05 2.9411E-06"
        rpy="0 0 0" />
      <mass
        value="0.45716" />
      <inertia
        ixx="0.00021943"
        ixy="3.7E-07"
        ixz="-8.6975E-08"
        iyy="0.00022813"
        iyz="2.1E-07"
        izz="0.00023483" />
    </inertial>
    <visual>
      <origin
        xyz="0 0 0"
        rpy="0 0 0" />
      <geometry>
        <mesh
          filename="../meshes/gr2t2v2/right_hand_pitch_link.STL" />
      </geometry>
      <material
        name="">
        <color
          rgba="1 1 1 1" />
      </material>
    </visual>
    <!-- <collision>
      <origin
        xyz="0 0 0"
        rpy="0 0 0" />
      <geometry>
        <mesh
          filename="../meshes/gr2t2v2/right_hand_pitch_link.STL" />
      </geometry>
    </collision> -->
  </link>
  <joint
    name="right_wrist_pitch_joint"
    type="revolute">
    <origin
      xyz="0 0 -0.16102"
      rpy="0 0 0" />
    <parent
      link="right_hand_yaw_link" />
    <child
      link="right_hand_pitch_link" />
    <axis
      xyz="0 1 0" />
    <limit
      lower="-0.61087"
      upper="0.61087"
      effort="17.325"
      velocity="9.1627" />
  </joint>
  <link
    name="right_hand_roll_link">
    <inertial>
      <origin
        xyz="0.0087325 2.8386E-05 -0.015719"
        rpy="0 0 0" />
      <mass
        value="0.20259" />
      <inertia
        ixx="0.0001134"
        ixy="1.8583E-08"
        ixz="-2.4468E-05"
        iyy="0.00019338"
        iyz="6.0314E-08"
        izz="0.0001471" />
    </inertial>
    <visual>
      <origin
        xyz="0 0 0"
        rpy="0 0 0" />
      <geometry>
        <mesh
          filename="../meshes/gr2t2v2/right_hand_roll_link.STL" />
      </geometry>
      <material
        name="">
        <color
          rgba="1 1 1 1" />
      </material>
    </visual>
    <!-- <collision>
      <origin
        xyz="0 0 0"
        rpy="0 0 0" />
      <geometry>
        <mesh
          filename="../meshes/gr2t2v2/right_hand_roll_link.STL" />
      </geometry>
    </collision> -->
  </link>
  <joint
    name="right_wrist_roll_joint"
    type="revolute">
    <origin
      xyz="0 0 0"
      rpy="0 0 0" />
    <parent
      link="right_hand_pitch_link" />
    <child
      link="right_hand_roll_link" />
    <axis
      xyz="1 0 0" />
    <limit
      lower="-0.95993"
      upper="0.95993"
      effort="17.325"
      velocity="9.1627" />
  </joint>
  <link
    name="right_end_effector_link">
  </link>
  <joint
    name="right_end_effector_joint"
    type="fixed">
    <origin
      xyz="0 0 -0.045"
      rpy="0 0 0" />
    <parent
      link="right_hand_roll_link" />
    <child
      link="right_end_effector_link" />
    <axis
      xyz="0 0 0" />
  </joint>


  <link
    name="R_hand_base_link">
    <inertial>
      <origin
        xyz="-0.0031 0.00970 -0.0440"
        rpy="0 0 0" />
      <mass
        value="0.281" />
      <inertia
        ixx="0.000343"
        ixy="2.91E-06"
        ixz="9.85E-06"
        iyy="0.000474"
        iyz="1.066E-5"
        izz="0.000217" />
    </inertial>
    <visual>
      <origin
        xyz="0 0 0"
        rpy="0 0 0" />
      <geometry>
        <mesh
          filename="../meshes/fourier_hand_12dof/R_hand_base_link.STL" />
      </geometry>
      <material
        name="">
        <color
          rgba="1 1 1 1" />
      </material>
    </visual>
    <collision>
      <origin
        xyz="0 0 0"
        rpy="0 0 0" />
      <geometry>
        <mesh
          filename="../meshes/fourier_hand_12dof/R_hand_base_link.STL" />
      </geometry>
    </collision>
  </link>
  <joint
    name="R_hand_base_joint"
    type="fixed">
    <origin
      xyz="0 0 0"
      rpy="0 0 0" />
    <parent
      link="right_end_effector_link" />
    <child
      link="R_hand_base_link" />
    <axis
      xyz="0 0 0" />
  </joint>
  <link
    name="R_thumb_proximal_yaw_link">
    <inertial>
      <origin
        xyz="0.010856 -0.001425 -0.000443"
        rpy="0 0 0" />
      <mass
        value="0.04" />
      <inertia
        ixx="4.48E-6"
        ixy="7E-7"
        ixz="7.4E-7"
        iyy="7.55E-6"
        iyz="-6E-8"
        izz="6.88E-06" />
    </inertial>
    <visual>
      <origin
        xyz="0 0 0"
        rpy="0 0 0" />
      <geometry>
        <mesh
          filename="../meshes/fourier_hand_12dof/R_thumb_proximal_yaw_link.STL" />
      </geometry>
      <material
        name="">
        <color
          rgba="1 1 1 1" />
      </material>
    </visual>
    <collision>
      <origin
        xyz="0 0 0"
        rpy="0 0 0" />
      <geometry>
        <mesh
          filename="../meshes/fourier_hand_12dof/R_thumb_proximal_yaw_link.STL" />
      </geometry>
    </collision>
  </link>
  <joint
    name="R_thumb_proximal_yaw_joint"
    type="revolute">
    <origin
      xyz="0.014 0.012 -0.023196"
      rpy="3.1416 0 0" />
    <parent
      link="R_hand_base_link" />
    <child
      link="R_thumb_proximal_yaw_link" />
    <axis
      xyz="0 0 1" />
    <limit
      lower="-1.4661"
      upper="0"
      effort="0"
      velocity="0" />
  </joint>
  <link
    name="R_thumb_proximal_pitch_link">
    <inertial>
      <origin
        xyz="0.026421 -0.001244 3.22E-06"
        rpy="0 0 0" />
      <mass
        value="0.0415" />
      <inertia
        ixx="5.78E-06"
        ixy="4.3E-7"
        ixz="0"
        iyy="1.328E-05"
        iyz="0"
        izz="1.39E-05" />
    </inertial>
    <visual>
      <origin
        xyz="0 0 0"
        rpy="0 0 0" />
      <geometry>
        <mesh
          filename="../meshes/fourier_hand_12dof/R_thumb_proximal_pitch_link.STL" />
      </geometry>
      <material
        name="">
        <color
          rgba="1 1 1 1" />
      </material>
    </visual>
    <collision>
      <origin
        xyz="0 0 0"
        rpy="0 0 0" />
      <geometry>
        <mesh
          filename="../meshes/fourier_hand_12dof/R_thumb_proximal_pitch_link.STL" />
      </geometry>
    </collision>
  </link>
  <joint
    name="R_thumb_proximal_pitch_joint"
    type="revolute">
    <origin
      xyz="0.034322 -0.0054361 -0.001"
      rpy="1.5708 0 -0.15708" />
    <parent
      link="R_thumb_proximal_yaw_link" />
    <child
      link="R_thumb_proximal_pitch_link" />
    <axis
      xyz="0 0 1" />
    <limit
      lower="0"
      upper="1.274"
      effort="0"
      velocity="0" />
  </joint>
  <link
    name="R_thumb_distal_link">
    <inertial>
      <origin
        xyz="0.01864 -0.005137 1.57E-05"
        rpy="0 0 0" />
      <mass
        value="0.0198" />
      <inertia
        ixx="1.15E-06"
        ixy="-6E-8"
        ixz="0"
        iyy="3.43E-06"
        iyz="0"
        izz="3.24E-06" />
    </inertial>
    <visual>
      <origin
        xyz="0 0 0"
        rpy="0 0 0" />
      <geometry>
        <mesh
          filename="../meshes/fourier_hand_12dof/R_thumb_distal_link.STL" />
      </geometry>
      <material
        name="">
        <color
          rgba="1 1 1 1" />
      </material>
    </visual>
    <collision>
      <origin
        xyz="0 0 0"
        rpy="0 0 0" />
      <geometry>
        <mesh
          filename="../meshes/fourier_hand_12dof/R_thumb_distal_link.STL" />
      </geometry>
    </collision>
  </link>
  <joint
    name="R_thumb_distal_joint"
    type="revolute">
    <origin
      xyz="0.05175 0.0050976 0"
      rpy="0 0 0.071635" />
    <parent
      link="R_thumb_proximal_pitch_link" />
    <child
      link="R_thumb_distal_link" />
    <axis
      xyz="0 0 1" />
    <limit
      lower="0"
      upper="1.3614"
      effort="0"
      velocity="0" />
  </joint>

  <link name="R_thumb_tip_link">
    <visual>
      <origin
        xyz="0 0 0"
        rpy="0 0 0" />
      <geometry>
        <sphere radius="0.005" />
      </geometry>
      <material name="yellow">
        <color rgba="0.9 1 0 1" />
      </material>
    </visual>
  </link>
  <joint name="R_thumb_tip_joint" type="fixed">
    <parent link="R_thumb_distal_link" />
    <child link="R_thumb_tip_link" />
    <origin rpy="0 0 0" xyz="0.035 -0.001 0" />
  </joint>


  <link
    name="R_index_metacarpal_link">
    <inertial>
      <origin
        xyz="-0.00913 0.003944 0"
        rpy="0 0 0" />
      <mass
        value="0.0321" />
      <inertia
        ixx="1.09E-06"
        ixy="1.85E-06"
        ixz="0"
        iyy="7.7E-06"
        iyz="0"
        izz="7.94E-06" />
    </inertial>
    <visual>
      <origin
        xyz="0 0 0"
        rpy="0 0 0" />
      <geometry>
        <mesh
          filename="../meshes/fourier_hand_12dof/R_index_metacarpal_link.STL" />
      </geometry>
      <material
        name="">
        <color
          rgba="1 1 1 1" />
      </material>
    </visual>
    <collision>
      <origin
        xyz="0 0 0"
        rpy="0 0 0" />
      <geometry>
        <mesh
          filename="../meshes/fourier_hand_12dof/R_index_metacarpal_link.STL" />
      </geometry>
    </collision>
  </link>
  <joint
    name="R_index_metacarpal_joint"
    type="revolute">
    <origin
      xyz="0.0305 0.0118 -0.088496"
      rpy="-3.1416 1.4588 0" />
    <parent
      link="R_hand_base_link" />
    <child
      link="R_index_metacarpal_link" />
    <axis
      xyz="0 1 0" />
    <limit
      lower="-0.0524"
      upper="0.2618"
      effort="0"
      velocity="0" />
  </joint>
  <link
    name="R_index_proximal_link">
    <inertial>
      <origin
        xyz="0.017361 0.0045 0"
        rpy="0 0 0" />
      <mass
        value="0.0358" />
      <inertia
        ixx="3.91E-06"
        ixy="-2.7E-7"
        ixz="0"
        iyy="7.43E-06"
        iyz="0"
        izz="7.77E-06" />
    </inertial>
    <visual>
      <origin
        xyz="0 0 0"
        rpy="0 0 0" />
      <geometry>
        <mesh
          filename="../meshes/fourier_hand_12dof/R_index_proximal_link.STL" />
      </geometry>
      <material
        name="">
        <color
          rgba="1 1 1 1" />
      </material>
    </visual>
    <collision>
      <origin
        xyz="0 0 0"
        rpy="0 0 0" />
      <geometry>
        <mesh
          filename="../meshes/fourier_hand_12dof/R_index_proximal_link.STL" />
      </geometry>
    </collision>
  </link>
  <joint
    name="R_index_proximal_joint"
    type="revolute">
    <origin
      xyz="0.012 0.0005 0"
      rpy="0 0 0" />
    <parent
      link="R_index_metacarpal_link" />
    <child
      link="R_index_proximal_link" />
    <axis
      xyz="0 0 1" />
    <limit
      lower="-1.5185"
      upper="0"
      effort="0"
      velocity="0" />
  </joint>
  <link
    name="R_index_intermediate_link">
    <inertial>
      <origin
        xyz="0.0224 0.002908 1.624E-5"
        rpy="0 0 0" />
      <mass
        value="0.0199" />
      <inertia
        ixx="8.4E-7"
        ixy="4E-8"
        ixz="1E-8"
        iyy="4.82E-6"
        iyz="0"
        izz="4.72E-6" />
    </inertial>
    <visual>
      <origin
        xyz="0 0 0"
        rpy="0 0 0" />
      <geometry>
        <mesh
          filename="../meshes/fourier_hand_12dof/R_index_intermediate_link.STL" />
      </geometry>
      <material
        name="">
        <color
          rgba="1 1 1 1" />
      </material>
    </visual>
    <collision>
      <origin
        xyz="0 0 0"
        rpy="0 0 0" />
      <geometry>
        <mesh
          filename="../meshes/fourier_hand_12dof/R_index_intermediate_link.STL" />
      </geometry>
    </collision>
  </link>
  <joint
    name="R_index_intermediate_joint"
    type="revolute">
    <origin
      xyz="0.038948 0.0020202 0"
      rpy="0 0 -0.19585" />
    <parent
      link="R_index_proximal_link" />
    <child
      link="R_index_intermediate_link" />
    <axis
      xyz="0 0 1" />
    <limit
      lower="-1.5708"
      upper="0"
      effort="0"
      velocity="0" />
  </joint>

  <link name="R_index_tip_link">
    <visual>
      <origin
        xyz="0 0 0"
        rpy="0 0 0" />
      <geometry>
        <sphere radius="0.005" />
      </geometry>
      <material name="yellow">
        <color rgba="0.9 1 0 1" />
      </material>
    </visual>
  </link>
  <joint name="R_index_tip_joint" type="fixed">
    <parent link="R_index_intermediate_link" />
    <child link="R_index_tip_link" />
    <origin rpy="0 0 0" xyz="0.047 0.001 0" />
  </joint>


  <link
    name="R_middle_proximal_link">
    <inertial>
      <origin
        xyz="0.017361 0.0045 0"
        rpy="0 0 0" />
      <mass
        value="0.0358" />
      <inertia
        ixx="3.91E-06"
        ixy="-2.7E-7"
        ixz="0"
        iyy="7.43E-06"
        iyz="0"
        izz="7.77E-06" />
    </inertial>
    <visual>
      <origin
        xyz="0 0 0"
        rpy="0 0 0" />
      <geometry>
        <mesh
          filename="../meshes/fourier_hand_12dof/R_middle_proximal_link.STL" />
      </geometry>
      <material
        name="">
        <color
          rgba="1 1 1 1" />
      </material>
    </visual>
    <collision>
      <origin
        xyz="0 0 0"
        rpy="0 0 0" />
      <geometry>
        <mesh
          filename="../meshes/fourier_hand_12dof/R_middle_proximal_link.STL" />
      </geometry>
    </collision>
  </link>
  <joint
    name="R_middle_proximal_joint"
    type="revolute">
    <origin
      xyz="0.0095 0.0113 -0.10005"
      rpy="3.1416 1.5708 0" />
    <parent
      link="R_hand_base_link" />
    <child
      link="R_middle_proximal_link" />
    <axis
      xyz="0 0 1" />
    <limit
      lower="-1.5185"
      upper="0"
      effort="0"
      velocity="0" />
  </joint>
  <link
    name="R_middle_intermediate_link">
    <inertial>
      <origin
        xyz="0.02470 0.003230 -1.394E-5"
        rpy="0 0 0" />
      <mass
        value="0.0234" />
      <inertia
        ixx="1.01E-6"
        ixy="-4E-8"
        ixz="1E-8"
        iyy="6.94E-6"
        iyz="0"
        izz="6.82E-6" />
    </inertial>
    <visual>
      <origin
        xyz="0 0 0"
        rpy="0 0 0" />
      <geometry>
        <mesh
          filename="../meshes/fourier_hand_12dof/R_middle_intermediate_link.STL" />
      </geometry>
      <material
        name="">
        <color
          rgba="1 1 1 1" />
      </material>
    </visual>
    <collision>
      <origin
        xyz="0 0 0"
        rpy="0 0 0" />
      <geometry>
        <mesh
          filename="../meshes/fourier_hand_12dof/R_middle_intermediate_link.STL" />
      </geometry>
    </collision>
  </link>
  <joint
    name="R_middle_intermediate_joint"
    type="revolute">
    <origin
      xyz="0.038948 0.0020202 0"
      rpy="0 0 -0.19218" />
    <parent
      link="R_middle_proximal_link" />
    <child
      link="R_middle_intermediate_link" />
    <axis
      xyz="0 0 1" />
    <limit
      lower="-1.5708"
      upper="0"
      effort="0"
      velocity="0" />
  </joint>

  <link name="R_middle_tip_link">
    <visual>
      <origin
        xyz="0 0 0"
        rpy="0 0 0" />
      <geometry>
        <sphere radius="0.005" />
      </geometry>
      <material name="yellow">
        <color rgba="0.9 1 0 1" />
      </material>
    </visual>
  </link>
  <joint name="R_middle_tip_joint" type="fixed">
    <parent link="R_middle_intermediate_link" />
    <child link="R_middle_tip_link" />
    <origin rpy="0 0 0" xyz="0.055 0.0012 0" />
  </joint>


  <link
    name="R_ring_proximal_link">
    <inertial>
      <origin
        xyz="0.017361 0.0045 0"
        rpy="0 0 0" />
      <mass
        value="0.035778" />
      <inertia
        ixx="3.91E-06"
        ixy="-2.7E-7"
        ixz="0"
        iyy="7.43E-06"
        iyz="0"
        izz="7.77E-06" />
    </inertial>
    <visual>
      <origin
        xyz="0 0 0"
        rpy="0 0 0" />
      <geometry>
        <mesh
          filename="../meshes/fourier_hand_12dof/R_ring_proximal_link.STL" />
      </geometry>
      <material
        name="">
        <color
          rgba="1 1 1 1" />
      </material>
    </visual>
    <collision>
      <origin
        xyz="0 0 0"
        rpy="0 0 0" />
      <geometry>
        <mesh
          filename="../meshes/fourier_hand_12dof/R_ring_proximal_link.STL" />
      </geometry>
    </collision>
  </link>
  <joint
    name="R_ring_proximal_joint"
    type="revolute">
    <origin
      xyz="-0.010987 0.0113 -0.10003"
      rpy="0 1.5184 3.1416" />
    <parent
      link="R_hand_base_link" />
    <child
      link="R_ring_proximal_link" />
    <axis
      xyz="0 0 1" />
    <limit
      lower="-1.5185"
      upper="0"
      effort="0"
      velocity="0" />
  </joint>
  <link
    name="R_ring_intermediate_link">
    <inertial>
      <origin
        xyz="0.0224 0.002908 1.624E-5"
        rpy="0 0 0" />
      <mass
        value="0.0199" />
      <inertia
        ixx="8.4E-7"
        ixy="4E-8"
        ixz="1E-8"
        iyy="4.82E-6"
        iyz="0"
        izz="4.72E-6" />
    </inertial>
    <visual>
      <origin
        xyz="0 0 0"
        rpy="0 0 0" />
      <geometry>
        <mesh
          filename="../meshes/fourier_hand_12dof/R_ring_intermediate_link.STL" />
      </geometry>
      <material
        name="">
        <color
          rgba="1 1 1 1" />
      </material>
    </visual>
    <collision>
      <origin
        xyz="0 0 0"
        rpy="0 0 0" />
      <geometry>
        <mesh
          filename="../meshes/fourier_hand_12dof/R_ring_intermediate_link.STL" />
      </geometry>
    </collision>
  </link>
  <joint
    name="R_ring_intermediate_joint"
    type="revolute">
    <origin
      xyz="0.038948 0.0020202 0"
      rpy="0 0 -0.19585" />
    <parent
      link="R_ring_proximal_link" />
    <child
      link="R_ring_intermediate_link" />
    <axis
      xyz="0 0 1" />
    <limit
      lower="-1.5708"
      upper="0"
      effort="0"
      velocity="0" />
  </joint>

  <link name="R_ring_tip_link">
    <visual>
      <origin
        xyz="0 0 0"
        rpy="0 0 0" />
      <geometry>
        <sphere radius="0.005" />
      </geometry>
      <material name="green">
        <color rgba="0.9 1 0 1" />
      </material>
    </visual>
  </link>
  <joint name="R_ring_tip_joint" type="fixed">
    <parent link="R_ring_intermediate_link" />
    <child link="R_ring_tip_link" />
    <origin rpy="0 0 0" xyz="0.045 0.001 0" />
  </joint>


  <link
    name="R_pinky_proximal_link">
    <inertial>
      <origin
        xyz="0.017361 0.0045 0"
        rpy="0 0 0" />
      <mass
        value="0.0358" />
      <inertia
        ixx="3.91E-06"
        ixy="-2.7E-7"
        ixz="0"
        iyy="7.43E-06"
        iyz="0"
        izz="7.77E-06" />
    </inertial>
    <visual>
      <origin
        xyz="0 0 0"
        rpy="0 0 0" />
      <geometry>
        <mesh
          filename="../meshes/fourier_hand_12dof/R_pinky_proximal_link.STL" />
      </geometry>
      <material
        name="">
        <color
          rgba="1 1 1 1" />
      </material>
    </visual>
    <collision>
      <origin
        xyz="0 0 0"
        rpy="0 0 0" />
      <geometry>
        <mesh
          filename="../meshes/fourier_hand_12dof/R_pinky_proximal_link.STL" />
      </geometry>
    </collision>
  </link>
  <joint
    name="R_pinky_proximal_joint"
    type="revolute">
    <origin
      xyz="-0.031472 0.0113 -0.099245"
      rpy="0 1.4661 3.1416" />
    <parent
      link="R_hand_base_link" />
    <child
      link="R_pinky_proximal_link" />
    <axis
      xyz="0 0 1" />
    <limit
      lower="-1.5185"
      upper="0"
      effort="0"
      velocity="0" />
  </joint>
  <link
    name="R_pinky_intermediate_link">
    <inertial>
      <origin
        xyz="0.01875 0.00296 5.23E-6"
        rpy="0 0 0" />
      <mass
        value="0.00812" />
      <inertia
        ixx="6.7E-7"
        ixy="5E-8"
        ixz="1E-8"
        iyy="2.69E-06"
        iyz="0"
        izz="2.6E-06" />
    </inertial>
    <visual>
      <origin
        xyz="0 0 0"
        rpy="0 0 0" />
      <geometry>
        <mesh
          filename="../meshes/fourier_hand_12dof/R_pinky_intermediate_link.STL" />
      </geometry>
      <material
        name="">
        <color
          rgba="1 1 1 1" />
      </material>
    </visual>
    <collision>
      <origin
        xyz="0 0 0"
        rpy="0 0 0" />
      <geometry>
        <mesh
          filename="../meshes/fourier_hand_12dof/R_pinky_intermediate_link.STL" />
      </geometry>
    </collision>
  </link>
  <joint
    name="R_pinky_intermediate_joint"
    type="revolute">
    <origin
      xyz="0.038948 0.0020202 0"
      rpy="0 -0.0013299 -0.20067" />
    <parent
      link="R_pinky_proximal_link" />
    <child
      link="R_pinky_intermediate_link" />
    <axis
      xyz="0.0013299 0 1" />
    <limit
      lower="-1.5708"
      upper="0"
      effort="0"
      velocity="0" />
  </joint>

  <link name="R_pinky_tip_link">
    <visual>
      <origin
        xyz="0 0 0"
        rpy="0 0 0" />
      <geometry>
        <sphere radius="0.005" />
      </geometry>
      <material name="yellow">
        <color rgba="0.9 1 0 1" />
      </material>
    </visual>
  </link>
  <joint name="R_pinky_tip_joint" type="fixed">
    <parent link="R_pinky_intermediate_link" />
    <child link="R_pinky_tip_link" />
    <origin rpy="0 0 0" xyz="0.038 0.001 0" />
  </joint>


  <link
    name="left_thigh_pitch_link">
    <inertial>
      <origin
        xyz="-0.035065 0.036467 0.0020083"
        rpy="0 0 0" />
      <mass
        value="2.61" />
      <inertia
        ixx="0.0075932"
        ixy="0.0031974"
        ixz="-8.035E-05"
        iyy="0.0085937"
        iyz="-9.448E-05"
        izz="0.011716" />
    </inertial>
    <visual>
      <origin
        xyz="0 0 0"
        rpy="0 0 0" />
      <geometry>
        <mesh
          filename="../meshes/gr2t2v2/left_thigh_pitch_link.STL" />
      </geometry>
      <material
        name="">
        <color
          rgba="1 1 1 1" />
      </material>
    </visual>
    <!-- <collision>
      <origin
        xyz="0 0 0"
        rpy="0 0 0" />
      <geometry>
        <mesh
          filename="../meshes/gr2t2v2/left_thigh_pitch_link.STL" />
      </geometry>
    </collision> -->
  </link>
  <joint
    name="left_hip_pitch_joint"
    type="revolute">
    <origin
      xyz="0 0.076867 -0.12355"
      rpy="-0.5236 0 0" />
    <parent
      link="base_link" />
    <child
      link="left_thigh_pitch_link" />
    <axis
      xyz="0 1 0" />
    <limit
      lower="-2.618"
      upper="2.618"
      effort="366.05"
      velocity="6.4997" />
  </joint>
  <link
    name="left_thigh_roll_link">
    <inertial>
      <origin
        xyz="0.027776 -0.00010848 -0.0074687"
        rpy="0 0 0" />
      <mass
        value="1.3487" />
      <inertia
        ixx="0.001181"
        ixy="-5.3E-06"
        ixz="0.00034163"
        iyy="0.0026369"
        iyz="-3.01E-06"
        izz="0.0027651" />
    </inertial>
    <visual>
      <origin
        xyz="0 0 0"
        rpy="0 0 0" />
      <geometry>
        <mesh
          filename="../meshes/gr2t2v2/left_thigh_roll_link.STL" />
      </geometry>
      <material
        name="">
        <color
          rgba="1 1 1 1" />
      </material>
    </visual>
    <collision>
      <origin
        xyz="0.025 0 0"
        rpy="0 1.57 0" />
      <geometry>
        <cylinder radius="0.05" length="0.18" />
      </geometry>
    </collision>
  </link>
  <joint
    name="left_hip_roll_joint"
    type="revolute">
    <origin
      xyz="-0.062 0.0729 0"
      rpy="0.5236 0 0" />
    <parent
      link="left_thigh_pitch_link" />
    <child
      link="left_thigh_roll_link" />
    <axis
      xyz="1 0 0" />
    <limit
      lower="-0.59341"
      upper="1.5708"
      effort="95.472"
      velocity="12.362" />
  </joint>
  <link
    name="left_thigh_yaw_link">
    <inertial>
      <origin
        xyz="0.0010147 -0.012758 -0.14387"
        rpy="0 0 0" />
      <mass
        value="5.1152" />
      <inertia
        ixx="0.042296"
        ixy="-8.538E-05"
        ixz="0.00038855"
        iyy="0.043183"
        iyz="0.00098874"
        izz="0.0099198" />
    </inertial>
    <visual>
      <origin
        xyz="0 0 0"
        rpy="0 0 0" />
      <geometry>
        <mesh
          filename="../meshes/gr2t2v2/left_thigh_yaw_link.STL" />
      </geometry>
      <material
        name="">
        <color
          rgba="1 1 1 1" />
      </material>
    </visual>
    <collision>
      <origin
        xyz="0 0 -0.19"
        rpy="0 0 0" />
      <geometry>
        <cylinder radius="0.06" length="0.26" />
      </geometry>
    </collision>
  </link>
  <joint
    name="left_hip_yaw_joint"
    type="revolute">
    <origin
      xyz="0.062 0 -0.03495"
      rpy="0 0 0" />
    <parent
      link="left_thigh_roll_link" />
    <child
      link="left_thigh_yaw_link" />
    <axis
      xyz="0 0 1" />
    <limit
      lower="-0.69813"
      upper="1.5708"
      effort="54.33"
      velocity="14.745" />
  </joint>
  <link
    name="left_shank_pitch_link">
    <inertial>
      <origin
        xyz="0.004743 -0.0014414 -0.1756"
        rpy="0 0 0" />
      <mass
        value="3.5932" />
      <inertia
        ixx="0.034881"
        ixy="-1.912E-05"
        ixz="-6.005E-05"
        iyy="0.035366"
        iyz="0.0010678"
        izz="0.0043262" />
    </inertial>
    <visual>
      <origin
        xyz="0 0 0"
        rpy="0 0 0" />
      <geometry>
        <mesh
          filename="../meshes/gr2t2v2/left_shank_pitch_link.STL" />
      </geometry>
      <material
        name="">
        <color
          rgba="1 1 1 1" />
      </material>
    </visual>
    <collision>
      <origin
        xyz="0 0 -0.165"
        rpy="0 0 0" />
      <geometry>
        <cylinder radius="0.05" length="0.18" />
      </geometry>
    </collision>
  </link>
  <joint
    name="left_knee_pitch_joint"
    type="revolute">
    <origin
      xyz="0 0 -0.34305"
      rpy="0 0 0" />
    <parent
      link="left_thigh_yaw_link" />
    <child
      link="left_shank_pitch_link" />
    <axis
      xyz="0 1 0" />
    <limit
      lower="-0.087266"
      upper="2.3562"
      effort="366.05"
      velocity="6.4997" />
  </joint>
  <link
    name="left_foot_pitch_link">
    <inertial>
      <origin
        xyz="0.026267 1.226E-05 0.0010987"
        rpy="0 0 0" />
      <mass
        value="0.17877" />
      <inertia
        ixx="1.261E-05"
        ixy="-9E-08"
        ixz="5.14E-06"
        iyy="0.00021914"
        iyz="-1.8E-07"
        izz="0.00022011" />
    </inertial>
    <visual>
      <origin
        xyz="0 0 0"
        rpy="0 0 0" />
      <geometry>
        <mesh
          filename="../meshes/gr2t2v2/left_foot_pitch_link.STL" />
      </geometry>
      <material
        name="">
        <color
          rgba="1 1 1 1" />
      </material>
    </visual>
    <!-- <collision>
      <origin
        xyz="0 0 0"
        rpy="0 0 0" />
      <geometry>
        <mesh
          filename="../meshes/gr2t2v2/left_foot_pitch_link.STL" />
      </geometry>
    </collision> -->
  </link>
  <joint
    name="left_ankle_pitch_joint"
    type="revolute">
    <origin
      xyz="0 0 -0.406"
      rpy="0 0 0" />
    <parent
      link="left_shank_pitch_link" />
    <child
      link="left_foot_pitch_link" />
    <axis
      xyz="0 1 0" />
    <limit
      lower="-0.7854"
      upper="0.7854"
      effort="54.33"
      velocity="14.745" />
  </joint>
  <link
    name="left_foot_roll_link">
    <inertial>
      <origin
        xyz="0.050086 0.006159 -0.032795"
        rpy="0 0 0" />
      <mass
        value="1.1232" />
      <inertia
        ixx="0.0012612"
        ixy="0.00033767"
        ixz="0.00043059"
        iyy="0.0067074"
        iyz="-0.00019341"
        izz="0.0072126" />
    </inertial>
    <visual>
      <origin
        xyz="0 0 0"
        rpy="0 0 0" />
      <geometry>
        <mesh
          filename="../meshes/gr2t2v2/left_foot_roll_link.STL" />
      </geometry>
      <material
        name="">
        <color
          rgba="1 1 1 1" />
      </material>
    </visual>
    <!-- <collision>
      <origin
        xyz="0.06 0 -0.048"
        rpy="0 0 0" />
      <geometry>
        <box size='0.28 0.1 0.02' />
      </geometry>
    </collision> -->


    <collision>
      <origin
        xyz="0.06 -0.025 -0.033"
        rpy="0 1.57 0" />
      <geometry>
        <cylinder radius='0.025' length='0.28' />
      </geometry>
    </collision>
    <collision>
      <origin
        xyz="0.06 0.025 -0.033"
        rpy="0 1.57 0" />
      <geometry>
        <cylinder radius='0.025' length='0.28' />
      </geometry>
    </collision>
  </link>
  <joint
    name="left_ankle_roll_joint"
    type="revolute">
    <origin
      xyz="0 0 0"
      rpy="0 0 0" />
    <parent
      link="left_foot_pitch_link" />
    <child
      link="left_foot_roll_link" />
    <axis
      xyz="1 0 0" />
    <limit
      lower="-0.38397"
      upper="0.38397"
      effort="29.835"
      velocity="16.755" />
  </joint>
  <link
    name="right_thigh_pitch_link">
    <inertial>
      <origin
        xyz="-0.035065 -0.036467 0.0020083"
        rpy="0 0 0" />
      <mass
        value="2.61" />
      <inertia
        ixx="0.0075932"
        ixy="-0.0031974"
        ixz="-8.035E-05"
        iyy="0.0085937"
        iyz="9.448E-05"
        izz="0.011716" />
    </inertial>
    <visual>
      <origin
        xyz="0 0 0"
        rpy="0 0 0" />
      <geometry>
        <mesh
          filename="../meshes/gr2t2v2/right_thigh_pitch_link.STL" />
      </geometry>
      <material
        name="">
        <color
          rgba="1 1 1 1" />
      </material>
    </visual>
    <!-- <collision>
      <origin
        xyz="0 0 0"
        rpy="0 0 0" />
      <geometry>
        <mesh
          filename="../meshes/gr2t2v2/right_thigh_pitch_link.STL" />
      </geometry>
    </collision> -->
  </link>
  <joint
    name="right_hip_pitch_joint"
    type="revolute">
    <origin
      xyz="0 -0.076867 -0.12355"
      rpy="0.5236 0 0" />
    <parent
      link="base_link" />
    <child
      link="right_thigh_pitch_link" />
    <axis
      xyz="0 1 0" />
    <limit
      lower="-2.618"
      upper="2.618"
      effort="366.05"
      velocity="6.4997" />
  </joint>
  <link
    name="right_thigh_roll_link">
    <inertial>
      <origin
        xyz="0.027776 0.00010848 -0.0074687"
        rpy="0 0 0" />
      <mass
        value="1.3487" />
      <inertia
        ixx="0.001181"
        ixy="5.3E-06"
        ixz="0.00034163"
        iyy="0.0026369"
        iyz="3.01E-06"
        izz="0.0027651" />
    </inertial>
    <visual>
      <origin
        xyz="0 0 0"
        rpy="0 0 0" />
      <geometry>
        <mesh
          filename="../meshes/gr2t2v2/right_thigh_roll_link.STL" />
      </geometry>
      <material
        name="">
        <color
          rgba="1 1 1 1" />
      </material>
    </visual>
    <collision>
      <origin
        xyz="0.025 0 0"
        rpy="0 1.57 0" />
      <geometry>
        <cylinder radius="0.05" length="0.18" />
      </geometry>
    </collision>
  </link>
  <joint
    name="right_hip_roll_joint"
    type="revolute">
    <origin
      xyz="-0.062 -0.0729 0"
      rpy="-0.5236 0 0" />
    <parent
      link="right_thigh_pitch_link" />
    <child
      link="right_thigh_roll_link" />
    <axis
      xyz="1 0 0" />
    <limit
      lower="-1.5708"
      upper="0.59341"
      effort="95.472"
      velocity="12.362" />
  </joint>
  <link
    name="right_thigh_yaw_link">
    <inertial>
      <origin
        xyz="0.0010147 0.012758 -0.14387"
        rpy="0 0 0" />
      <mass
        value="5.1152" />
      <inertia
        ixx="0.042296"
        ixy="8.538E-05"
        ixz="0.00038855"
        iyy="0.043183"
        iyz="-0.00098874"
        izz="0.0099198" />
    </inertial>
    <visual>
      <origin
        xyz="0 0 0"
        rpy="0 0 0" />
      <geometry>
        <mesh
          filename="../meshes/gr2t2v2/right_thigh_yaw_link.STL" />
      </geometry>
      <material
        name="">
        <color
          rgba="1 1 1 1" />
      </material>
    </visual>
    <collision>
      <origin
        xyz="0 0 -0.19"
        rpy="0 0 0" />
      <geometry>
        <cylinder radius="0.06" length="0.26" />
      </geometry>
    </collision>
  </link>
  <joint
    name="right_hip_yaw_joint"
    type="revolute">
    <origin
      xyz="0.062 0 -0.03495"
      rpy="0 0 0" />
    <parent
      link="right_thigh_roll_link" />
    <child
      link="right_thigh_yaw_link" />
    <axis
      xyz="0 0 1" />
    <limit
      lower="-1.5708"
      upper="0.69813"
      effort="54.33"
      velocity="14.745" />
  </joint>
  <link
    name="right_shank_pitch_link">
    <inertial>
      <origin
        xyz="0.004743 0.0014414 -0.1756"
        rpy="0 0 0" />
      <mass
        value="3.5932" />
      <inertia
        ixx="0.034881"
        ixy="1.912E-05"
        ixz="-6.005E-05"
        iyy="0.035366"
        iyz="-0.0010678"
        izz="0.0043262" />
    </inertial>
    <visual>
      <origin
        xyz="0 0 0"
        rpy="0 0 0" />
      <geometry>
        <mesh
          filename="../meshes/gr2t2v2/right_shank_pitch_link.STL" />
      </geometry>
      <material
        name="">
        <color
          rgba="1 1 1 1" />
      </material>
    </visual>
    <collision>
      <origin
        xyz="0 0 -0.165"
        rpy="0 0 0" />
      <geometry>
        <cylinder radius="0.05" length="0.18" />
      </geometry>
    </collision>
  </link>
  <joint
    name="right_knee_pitch_joint"
    type="revolute">
    <origin
      xyz="0 0 -0.34305"
      rpy="0 0 0" />
    <parent
      link="right_thigh_yaw_link" />
    <child
      link="right_shank_pitch_link" />
    <axis
      xyz="0 1 0" />
    <limit
      lower="-0.087266"
      upper="2.3562"
      effort="366.05"
      velocity="6.4997" />
  </joint>
  <link
    name="right_foot_pitch_link">
    <inertial>
      <origin
        xyz="0.026267 -1.226E-05 0.0010987"
        rpy="0 0 0" />
      <mass
        value="0.17877" />
      <inertia
        ixx="1.261E-05"
        ixy="9E-08"
        ixz="5.14E-06"
        iyy="0.00021914"
        iyz="1.8E-07"
        izz="0.00022011" />
    </inertial>
    <visual>
      <origin
        xyz="0 0 0"
        rpy="0 0 0" />
      <geometry>
        <mesh
          filename="../meshes/gr2t2v2/right_foot_pitch_link.STL" />
      </geometry>
      <material
        name="">
        <color
          rgba="1 1 1 1" />
      </material>
    </visual>
    <!-- <collision>
      <origin
        xyz="0 0 0"
        rpy="0 0 0" />
      <geometry>
        <mesh
          filename="../meshes/gr2t2v2/right_foot_pitch_link.STL" />
      </geometry>
    </collision> -->
  </link>
  <joint
    name="right_ankle_pitch_joint"
    type="revolute">
    <origin
      xyz="0 0 -0.406"
      rpy="0 0 0" />
    <parent
      link="right_shank_pitch_link" />
    <child
      link="right_foot_pitch_link" />
    <axis
      xyz="0 1 0" />
    <limit
      lower="-0.7854"
      upper="0.7854"
      effort="54.33"
      velocity="14.745" />
  </joint>
  <link
    name="right_foot_roll_link">
    <inertial>
      <origin
        xyz="0.050086 -0.006159 -0.032795"
        rpy="0 0 0" />
      <mass
        value="1.1232" />
      <inertia
        ixx="0.0012612"
        ixy="-0.00033767"
        ixz="0.00043059"
        iyy="0.0067074"
        iyz="0.00019341"
        izz="0.0072126" />
    </inertial>
    <visual>
      <origin
        xyz="0 0 0"
        rpy="0 0 0" />
      <geometry>
        <mesh
          filename="../meshes/gr2t2v2/right_foot_roll_link.STL" />
      </geometry>
      <material
        name="">
        <color
          rgba="1 1 1 1" />
      </material>
    </visual>
    <!-- <collision>
      <origin
        xyz="0.06 0 -0.048"
        rpy="0 0 0" />
      <geometry>
        <box size='0.28 0.1 0.02' />
      </geometry>
    </collision> -->

    <collision>
      <origin
        xyz="0.06 -0.025 -0.033"
        rpy="0 1.57 0" />
      <geometry>
        <cylinder radius='0.025' length='0.28' />
      </geometry>
    </collision>
    <collision>
      <origin
        xyz="0.06 0.025 -0.033"
        rpy="0 1.57 0" />
      <geometry>
        <cylinder radius='0.025' length='0.28' />
      </geometry>
    </collision>
  </link>
  <joint
    name="right_ankle_roll_joint"
    type="revolute">
    <origin
      xyz="0 0 0"
      rpy="0 0 0" />
    <parent
      link="right_foot_pitch_link" />
    <child
      link="right_foot_roll_link" />
    <axis
      xyz="1 0 0" />
    <limit
      lower="-0.38397"
      upper="0.38397"
      effort="29.835"
      velocity="16.755" />
  </joint>
  <link
    name="imu_link">
    <inertial>
      <origin
        xyz="0 0 0"
        rpy="0 0 0" />
      <mass
        value="0" />
      <inertia
        ixx="0"
        ixy="0"
        ixz="0"
        iyy="0"
        iyz="0"
        izz="0" />
    </inertial>

  </link>
  <joint
    name="imu_joint"
    type="fixed">
    <origin
      xyz="-0.059 0 -0.068"
      rpy="0 0 0" />
    <parent
      link="base_link" />
    <child
      link="imu_link" />
    <axis
      xyz="0 0 0" />
  </joint>
</robot>
